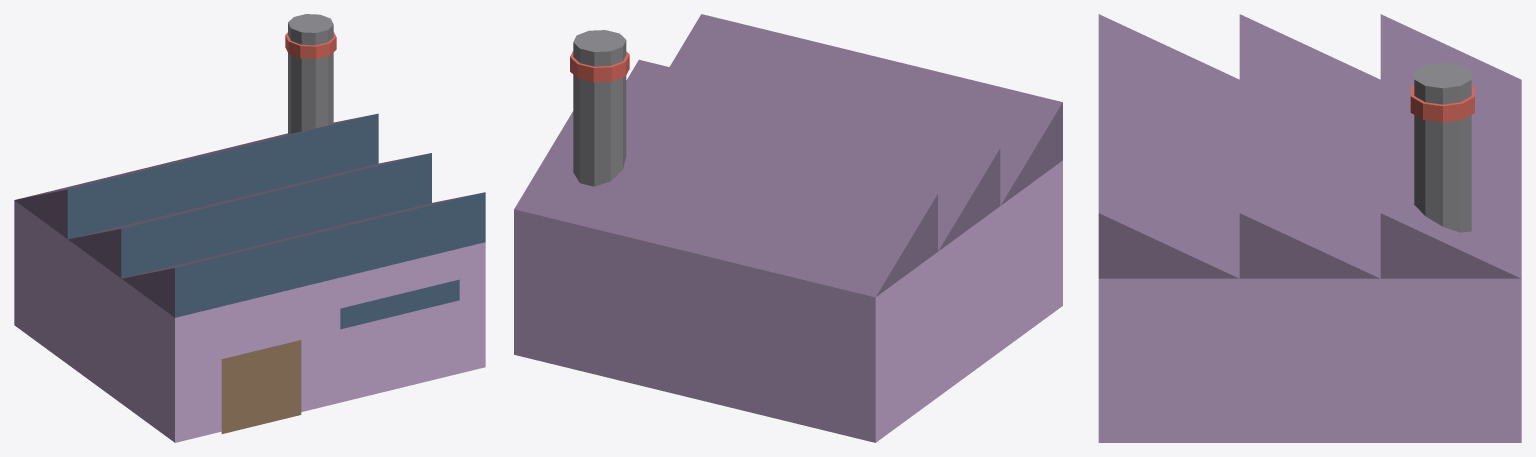
File: factory.glb
The picture shows the model from 3 angles, left to right: view 1: azimuth 30°, elevation 25°; view 2: azimuth 150°, elevation 25°; view 3: azimuth 270°, elevation 25°; orthographic projection. The views are drawn at different scales.
Visible parts, largest first — view 1: factory; view 2: factory; view 3: factory.
Boxes of the visible parts, x1,y1,x2,y2 form: factory: [14, 14, 485, 442]; factory: [514, 14, 1062, 442]; factory: [1098, 14, 1521, 442].
Bounding box in the file's own units: 0.78 × 0.62 × 0.712.
